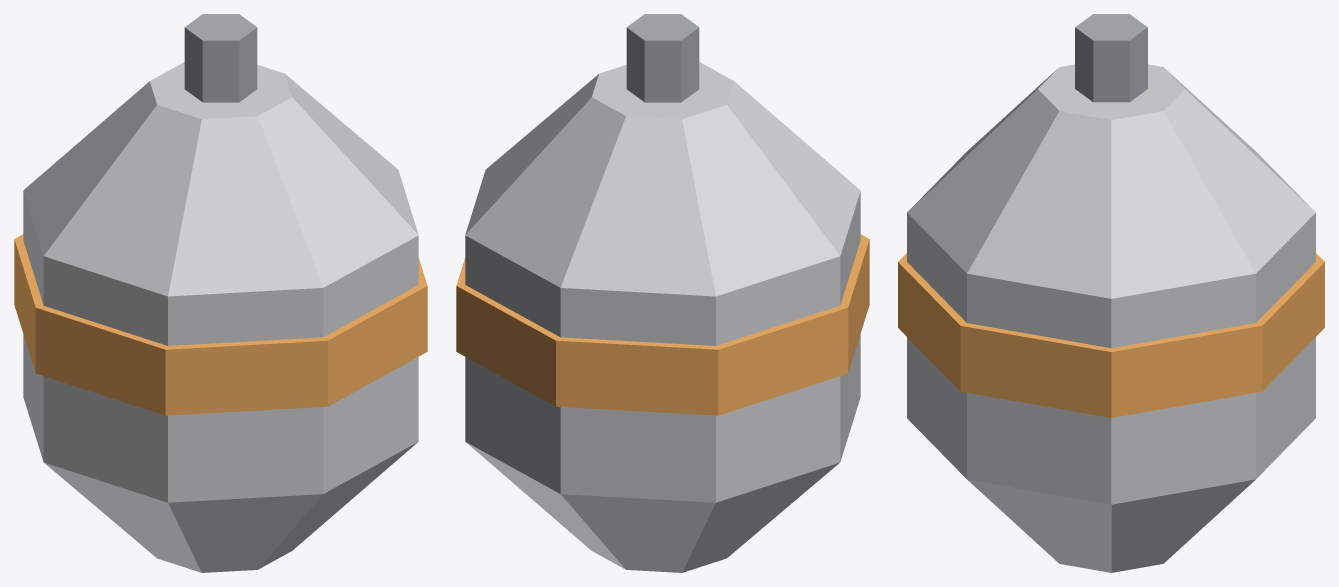
File: tank_mini.glb
3 views of the same model, side by side, from view 1: azimuth 30°, elevation 25°; view 2: azimuth 150°, elevation 25°; view 3: azimuth 270°, elevation 25° (orthographic).
Visible parts, largest first — view 1: tank_mini; view 2: tank_mini; view 3: tank_mini.
Part boxes in pixels (left/top/right/bottom): tank_mini: left=14, top=14, right=427, bottom=572; tank_mini: left=456, top=14, right=869, bottom=572; tank_mini: left=898, top=14, right=1324, bottom=572.
Size of the model in its own units: 0.94 by 1.25 by 0.94.
